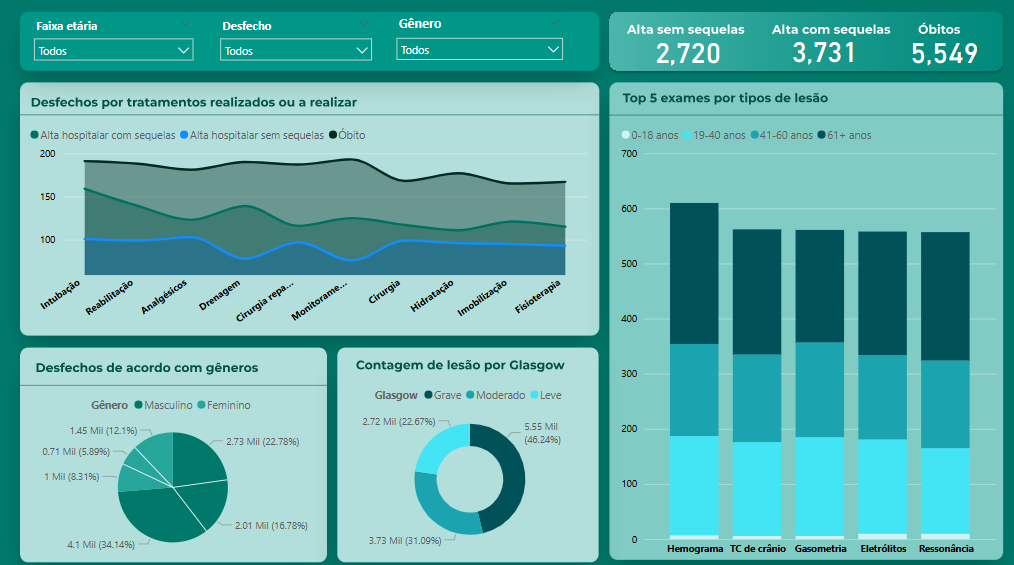

Layout of this report page (visuals, bound fields, positions):
{"tool":"powerbi","page":{"name":"Página 1","canvas":[1280,720],"ordinal":0},"visuals":[{"type":"donutChart","fields":{"Category":["Sheet1.Classificacao Glasgow"],"Y":["CountNonNull(Sheet1.Tipo de Lesão)"]},"box":[427.4,476.2,325.4,221.7],"z":0},{"type":"slicer","fields":{"Values":["Sheet1.Desfecho"]},"box":[267.8,21.3,209.3,72.7],"z":1000},{"type":"slicer","fields":{"Values":["Sheet1.Gênero"]},"box":[487.7,18.6,227.9,70],"z":2000},{"type":"slicer","fields":{"Values":["Sheet1.Faixa_Etaria"]},"box":[36,22,219,70],"z":3000},{"type":"areaChart","fields":{"Series":["Sheet1.Desfecho"],"Y":["CountNonNull(Sheet1.Desfecho)"],"Category":["Sheet1.Tratamentos Realizados ou a Realizar"]},"box":[36,152,704,269],"z":4000},{"type":"pieChart","fields":{"Category":["Sheet1.Gênero"],"Series":["Sheet1.Desfecho"],"Y":["CountNonNull(Sheet1.Desfecho)"]},"box":[36,489,367,217],"z":5000},{"type":"columnChart","fields":{"Y":["CountNonNull(Sheet1.Tipo de Lesão)"],"Category":["Sheet1.Exames Laboratoriais"],"Series":["Sheet1.Faixa_Etaria"]},"box":[773,152,478,554],"z":6000},{"type":"card","title":"óbitos","fields":{"Values":["CountNonNull(Sheet1.Desfecho)"]},"box":[800,42,121,52],"z":7000},{"type":"card","title":"Alta hospitalar sem seq","fields":{"Values":["CountNonNull(Sheet1.Desfecho)"]},"box":[973.6,38.1,116.2,60.3],"z":8000},{"type":"card","title":"óbitos","fields":{"Values":["CountNonNull(Sheet1.Desfecho)"]},"box":[1119.9,42.6,120.6,51.4],"z":9000}]}

Visuals, with their boxes in screenshot pixels (x1, y1, x2, y2), scaled from the page's 1280x720 canvas onto the 1014x565 screenshot:
donutChart - Sheet1.Classificacao Glasgow x CountNonNull(Sheet1.Tipo de Lesão): bbox(339, 374, 596, 548)
slicer - Sheet1.Desfecho: bbox(212, 17, 378, 74)
slicer - Sheet1.Gênero: bbox(386, 15, 567, 70)
slicer - Sheet1.Faixa_Etaria: bbox(29, 17, 202, 72)
areaChart - Sheet1.Desfecho x CountNonNull(Sheet1.Desfecho): bbox(29, 119, 586, 330)
pieChart - Sheet1.Gênero x Sheet1.Desfecho: bbox(29, 384, 319, 554)
columnChart - CountNonNull(Sheet1.Tipo de Lesão) x Sheet1.Exames Laboratoriais: bbox(612, 119, 991, 554)
"óbitos" card: bbox(634, 33, 730, 74)
"Alta hospitalar sem seq" card: bbox(771, 30, 863, 77)
"óbitos" card: bbox(887, 33, 983, 74)
